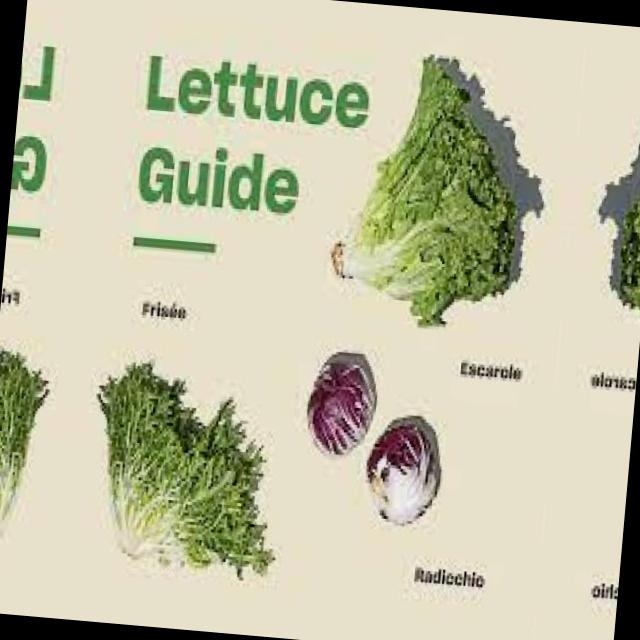healthy: (328, 44, 533, 338), (84, 349, 291, 585), (0, 340, 50, 564), (609, 68, 640, 350)
